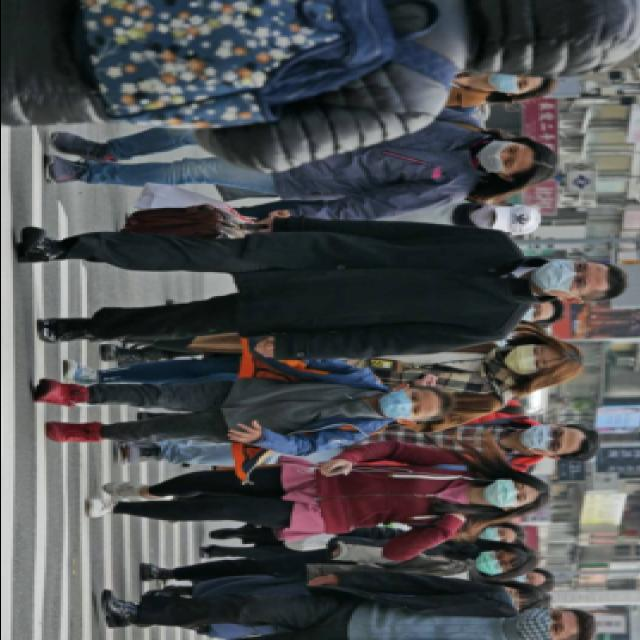with_mask: (530, 258, 592, 294), (514, 606, 566, 638), (475, 141, 523, 173), (502, 342, 550, 374), (518, 422, 566, 454), (480, 477, 530, 507), (380, 388, 428, 418), (484, 68, 530, 95), (473, 549, 511, 576), (468, 203, 504, 229), (475, 524, 511, 546), (516, 300, 547, 322), (511, 570, 537, 586)
